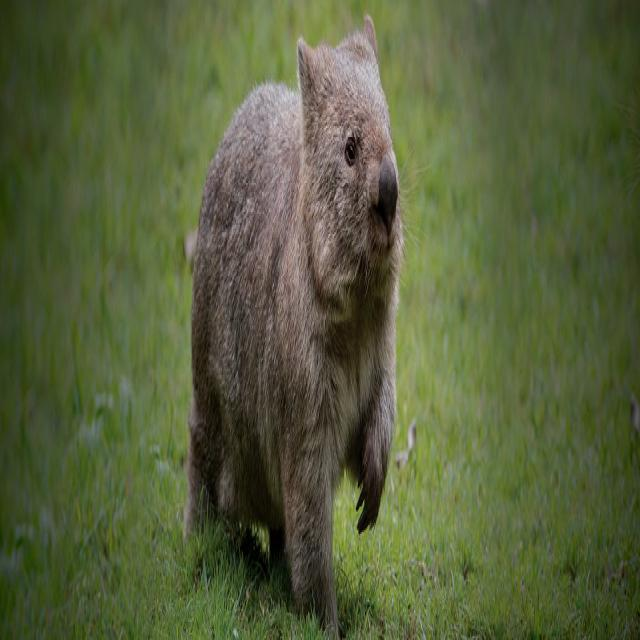Wombat: (183, 12, 404, 599)
